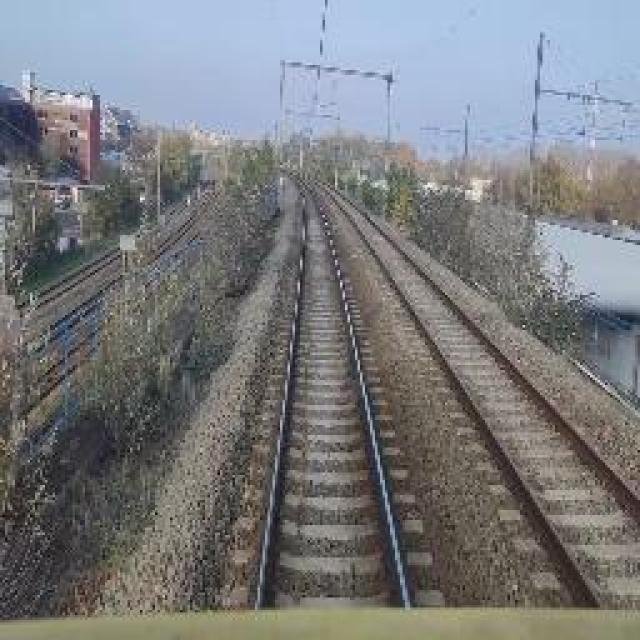rail: (302, 177, 640, 612), (216, 174, 449, 614)
